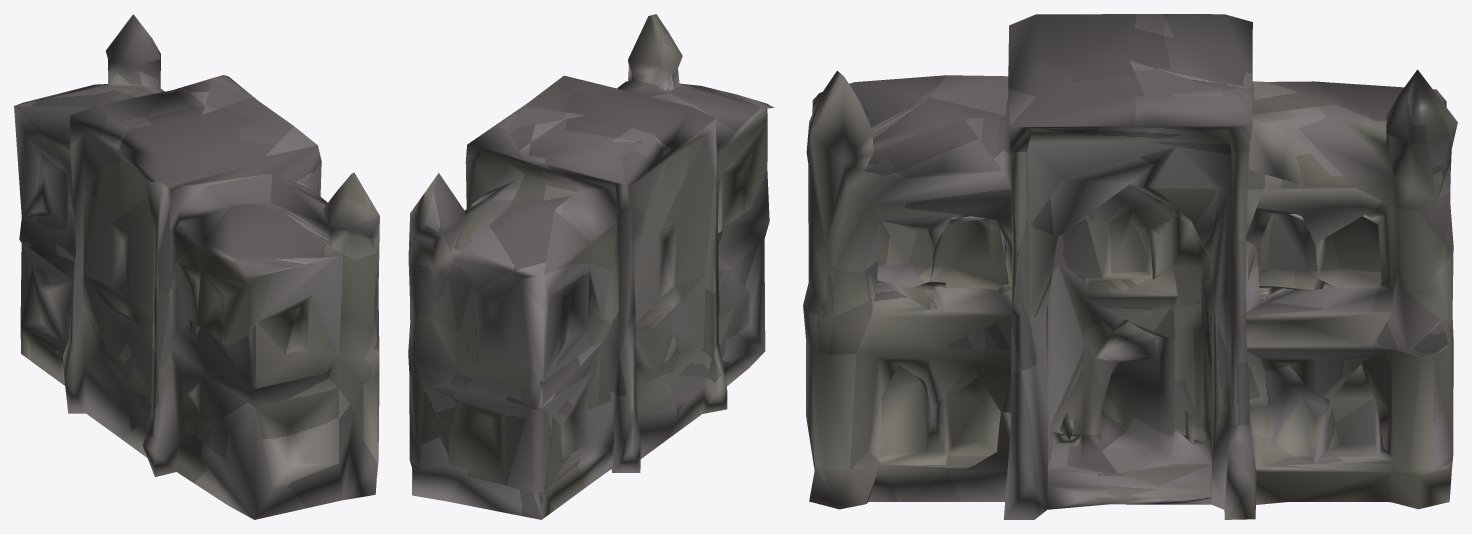
The model's file is house_noble_0_lo.glb.
3 renders of one model, left to right at view 1: azimuth 30°, elevation 25°; view 2: azimuth 150°, elevation 25°; view 3: azimuth 270°, elevation 25°, orthographic. The views are drawn at different scales.
Visible parts, largest first — view 1: tripo_node_292aeb95-5a95-431a-9e95-e4d1b807b511; view 2: tripo_node_292aeb95-5a95-431a-9e95-e4d1b807b511; view 3: tripo_node_292aeb95-5a95-431a-9e95-e4d1b807b511.
Part boxes in pixels (x1,y1,x2,y2): tripo_node_292aeb95-5a95-431a-9e95-e4d1b807b511: (14, 14, 379, 519); tripo_node_292aeb95-5a95-431a-9e95-e4d1b807b511: (408, 14, 774, 519); tripo_node_292aeb95-5a95-431a-9e95-e4d1b807b511: (803, 14, 1457, 519).
Size of the model in its own units: 0.4051 by 0.6965 by 0.9771.
1 material, 1 textured.
